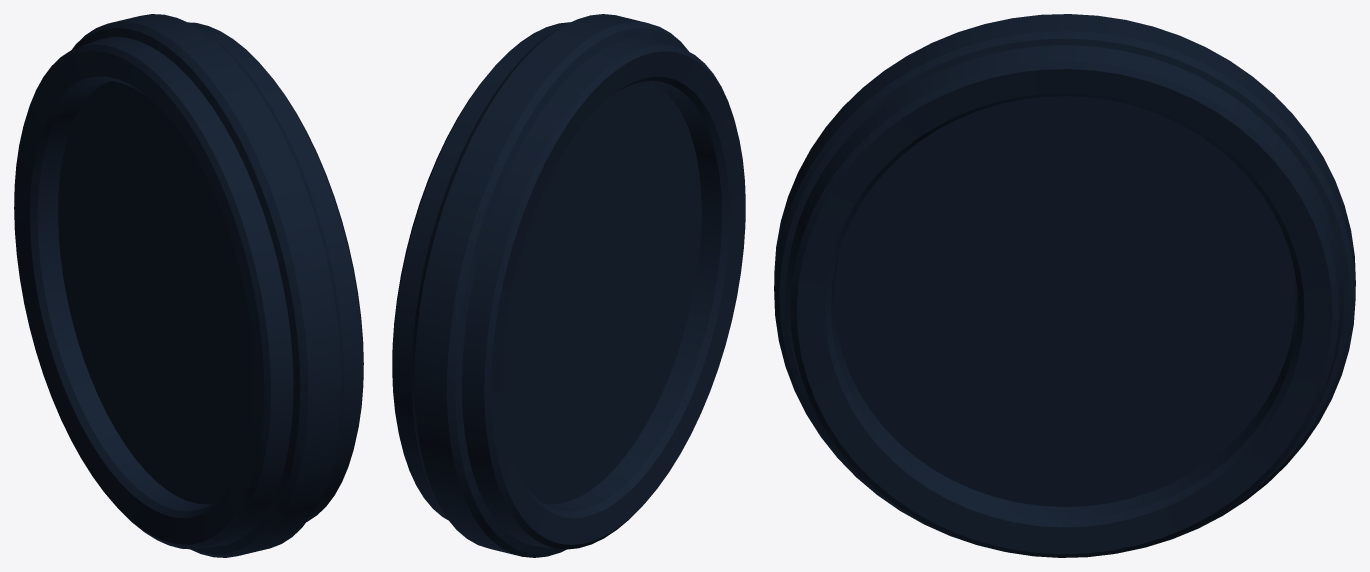
Rendered from SpaceShip Coin.fbx.
3 renders of one model, left to right at view 1: azimuth 30°, elevation 25°; view 2: azimuth 150°, elevation 25°; view 3: azimuth 270°, elevation 25°, orthographic. The views are drawn at different scales.
Parts seen in each view (by area): view 1: Coin; view 2: Coin; view 3: Coin.
Boxes of the visible parts, x1=… form: Coin: x1=14, y1=14, x2=363, y2=557; Coin: x1=392, y1=14, x2=745, y2=557; Coin: x1=774, y1=14, x2=1355, y2=557.
Size of the model in its own units: 2.96 by 13.81 by 13.81.
